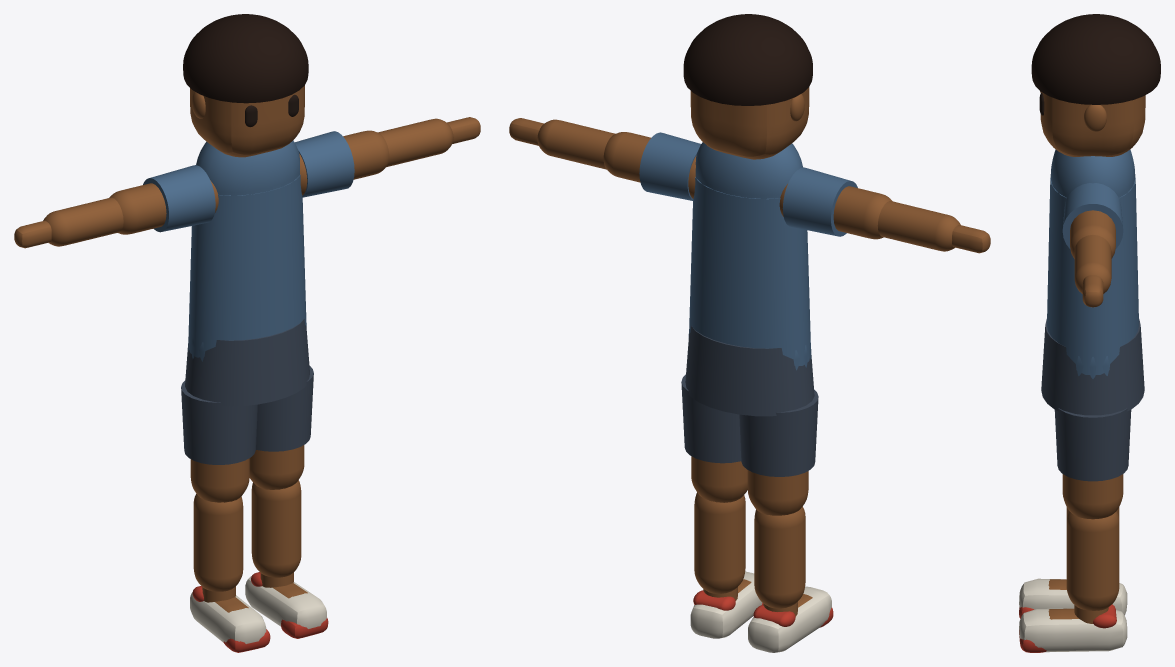
File: tomas.glb
3 views of the same model, side by side, from view 1: azimuth 30°, elevation 25°; view 2: azimuth 150°, elevation 25°; view 3: azimuth 270°, elevation 25° (orthographic). The views are drawn at different scales.
Visible parts, largest first — view 1: tomas_shirt_body, tomas_hair_cap, tomas_bottom_waist, tomas_head, tomas_bottom_leg_l, tomas_calf_l, tomas_calf_r, tomas_top_shoulders, tomas_sleeve_l, tomas_bottom_leg_r, tomas_sleeve_r, tomas_forearm_l (+8 smaller); view 2: tomas_shirt_body, tomas_hair_cap, tomas_bottom_waist, tomas_head, tomas_bottom_leg_l, tomas_calf_l, tomas_calf_r, tomas_top_shoulders, tomas_sleeve_l, tomas_bottom_leg_r, tomas_sleeve_r, tomas_forearm_l (+9 smaller); view 3: tomas_shirt_body, tomas_hair_cap, tomas_bottom_waist, tomas_calf_r, tomas_bottom_leg_r, tomas_head, tomas_shoe_r, tomas_top_shoulders, tomas_thigh_r, tomas_sleeve_r, tomas_forearm_r, tomas_shoe_l (+8 smaller).
Part boxes in pixels (<box>): tomas_shirt_body: <box>188,174,306,357</box>; tomas_hair_cap: <box>183,14,308,103</box>; tomas_bottom_waist: <box>185,318,309,406</box>; tomas_head: <box>190,85,304,157</box>; tomas_bottom_leg_l: <box>181,380,257,464</box>; tomas_calf_l: <box>193,494,243,591</box>; tomas_calf_r: <box>251,480,301,577</box>; tomas_top_shoulders: <box>196,140,299,195</box>; tomas_sleeve_l: <box>143,165,215,232</box>; tomas_bottom_leg_r: <box>256,366,313,451</box>; tomas_sleeve_r: <box>295,131,354,197</box>; tomas_forearm_l: <box>43,197,123,246</box>; tomas_shirt_body: <box>689,177,810,365</box>; tomas_hair_cap: <box>683,14,812,105</box>; tomas_bottom_waist: <box>685,326,814,416</box>; tomas_head: <box>690,87,809,159</box>; tomas_bottom_leg_l: <box>739,389,818,476</box>; tomas_calf_l: <box>754,506,805,608</box>; tomas_calf_r: <box>694,492,745,593</box>; tomas_top_shoulders: <box>695,142,802,198</box>; tomas_sleeve_l: <box>782,167,857,236</box>; tomas_bottom_leg_r: <box>681,374,741,463</box>; tomas_sleeve_r: <box>639,132,700,200</box>; tomas_forearm_l: <box>877,201,960,251</box>; tomas_shirt_body: <box>1047,178,1138,374</box>; tomas_hair_cap: <box>1031,14,1160,104</box>; tomas_bottom_waist: <box>1041,319,1144,415</box>; tomas_calf_r: <box>1066,511,1119,610</box>; tomas_bottom_leg_r: <box>1054,408,1131,481</box>; tomas_head: <box>1040,91,1145,156</box>; tomas_shoe_r: <box>1019,608,1127,652</box>; tomas_top_shoulders: <box>1050,149,1135,197</box>; tomas_thigh_r: <box>1062,474,1123,519</box>; tomas_sleeve_r: <box>1062,183,1123,249</box>; tomas_forearm_r: <box>1074,235,1111,293</box>; tomas_shoe_l: <box>1019,578,1127,615</box>.
Bounding box in the file's own units: 1.07 × 1.31 × 0.2767.
